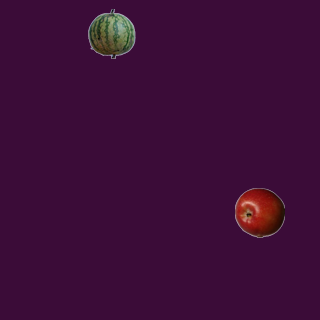Apple Braeburn: (234, 187, 284, 237)
Watermelon: (86, 8, 136, 58)
